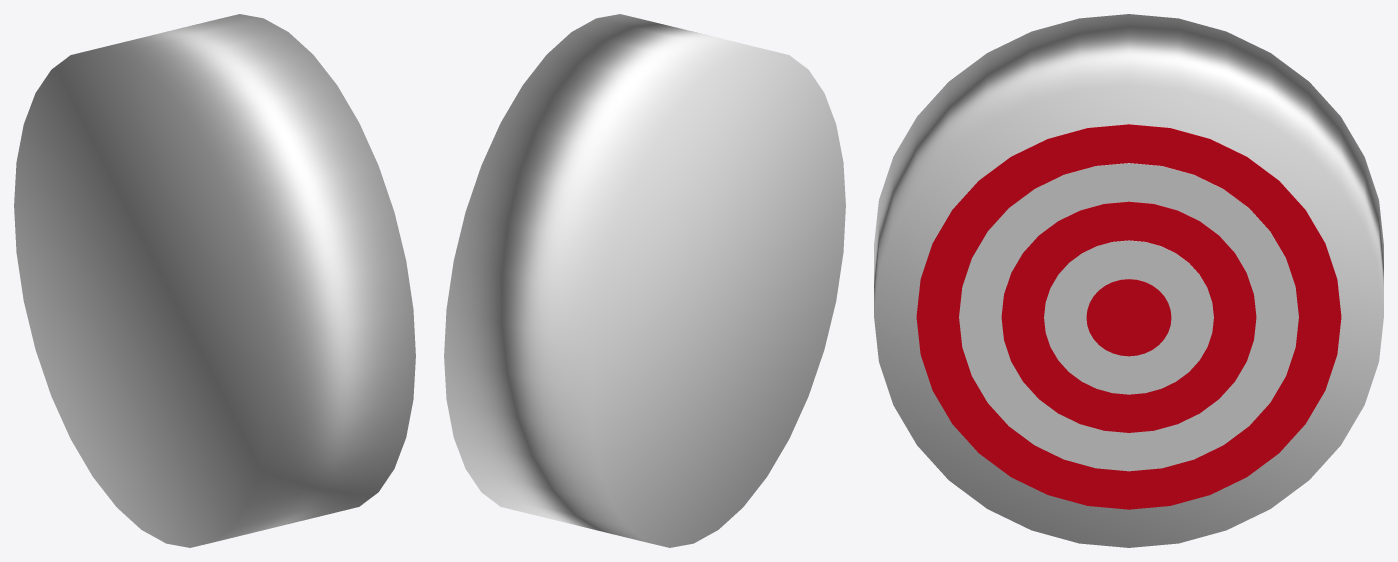
The model's file is target.glb.
3 views of the same model, side by side, from view 1: azimuth 30°, elevation 25°; view 2: azimuth 150°, elevation 25°; view 3: azimuth 270°, elevation 25° (orthographic).
Visible parts, largest first — view 1: Cylinder; view 2: Cylinder; view 3: Cylinder, Cylinder.001, Cylinder.002, Cylinder.003, Cylinder.004, Cylinder.005.
Part boxes in pixels (bbox=[...]): Cylinder: bbox=[14, 14, 415, 547]; Cylinder: bbox=[444, 14, 845, 547]; Cylinder: bbox=[874, 14, 1383, 547]; Cylinder.001: bbox=[916, 124, 1341, 509]; Cylinder.002: bbox=[959, 163, 1298, 471]; Cylinder.003: bbox=[1001, 201, 1256, 432]; Cylinder.004: bbox=[1044, 240, 1213, 394]; Cylinder.005: bbox=[1086, 279, 1171, 356].
Bounding box in the file's own units: 0.5127 × 1.52 × 1.52.
